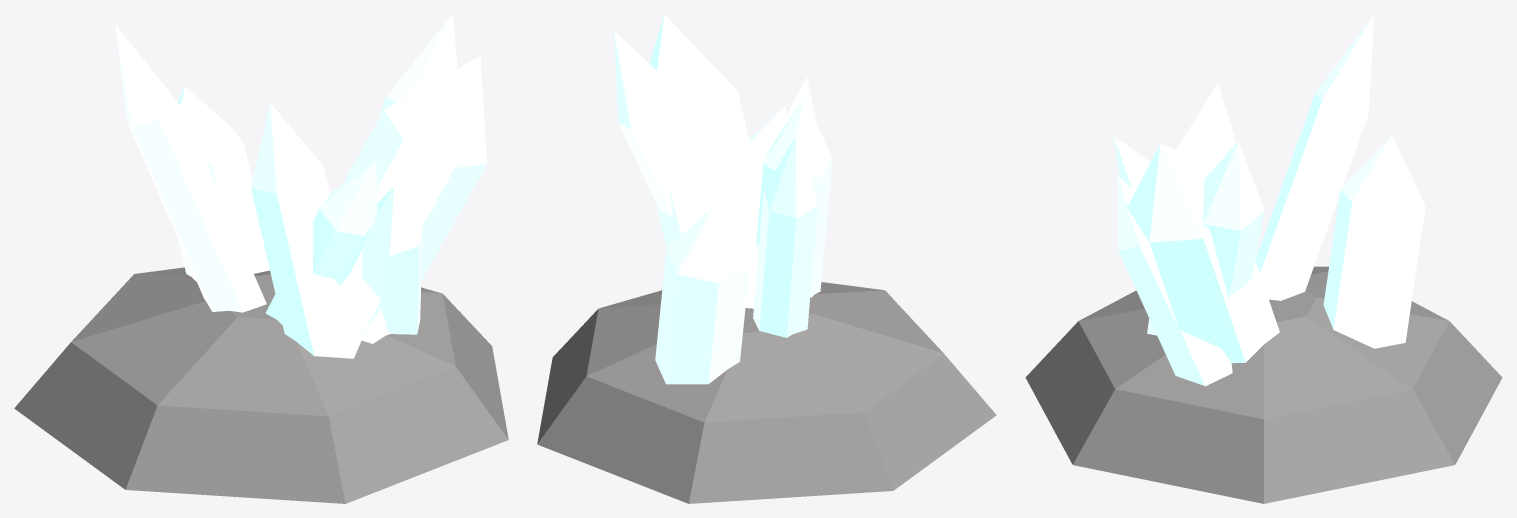
File: crystal_cluster.glb
3 views of the same model, side by side, from view 1: azimuth 30°, elevation 25°; view 2: azimuth 150°, elevation 25°; view 3: azimuth 270°, elevation 25° (orthographic). The views are drawn at different scales.
Parts seen in each view (by area): view 1: crystal_cluster; view 2: crystal_cluster; view 3: crystal_cluster.
Part boxes in pixels (x1,y1,x2,y2): crystal_cluster: (14, 14, 508, 503); crystal_cluster: (537, 14, 996, 503); crystal_cluster: (1025, 14, 1502, 503).
Bounding box in the file's own units: 3.42 × 2.77 × 3.51.
